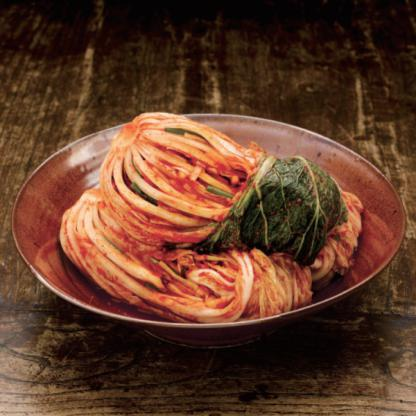kimchi: (100, 101, 374, 271), (56, 177, 345, 325)
